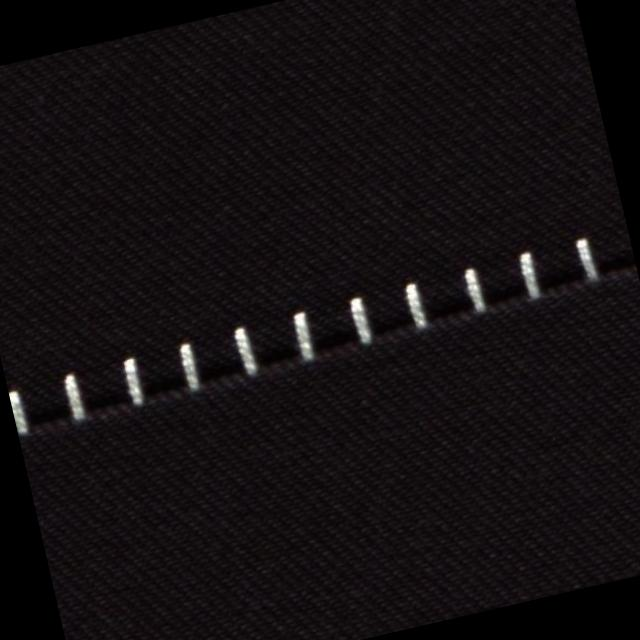gray stitch: (1, 225, 622, 450)
